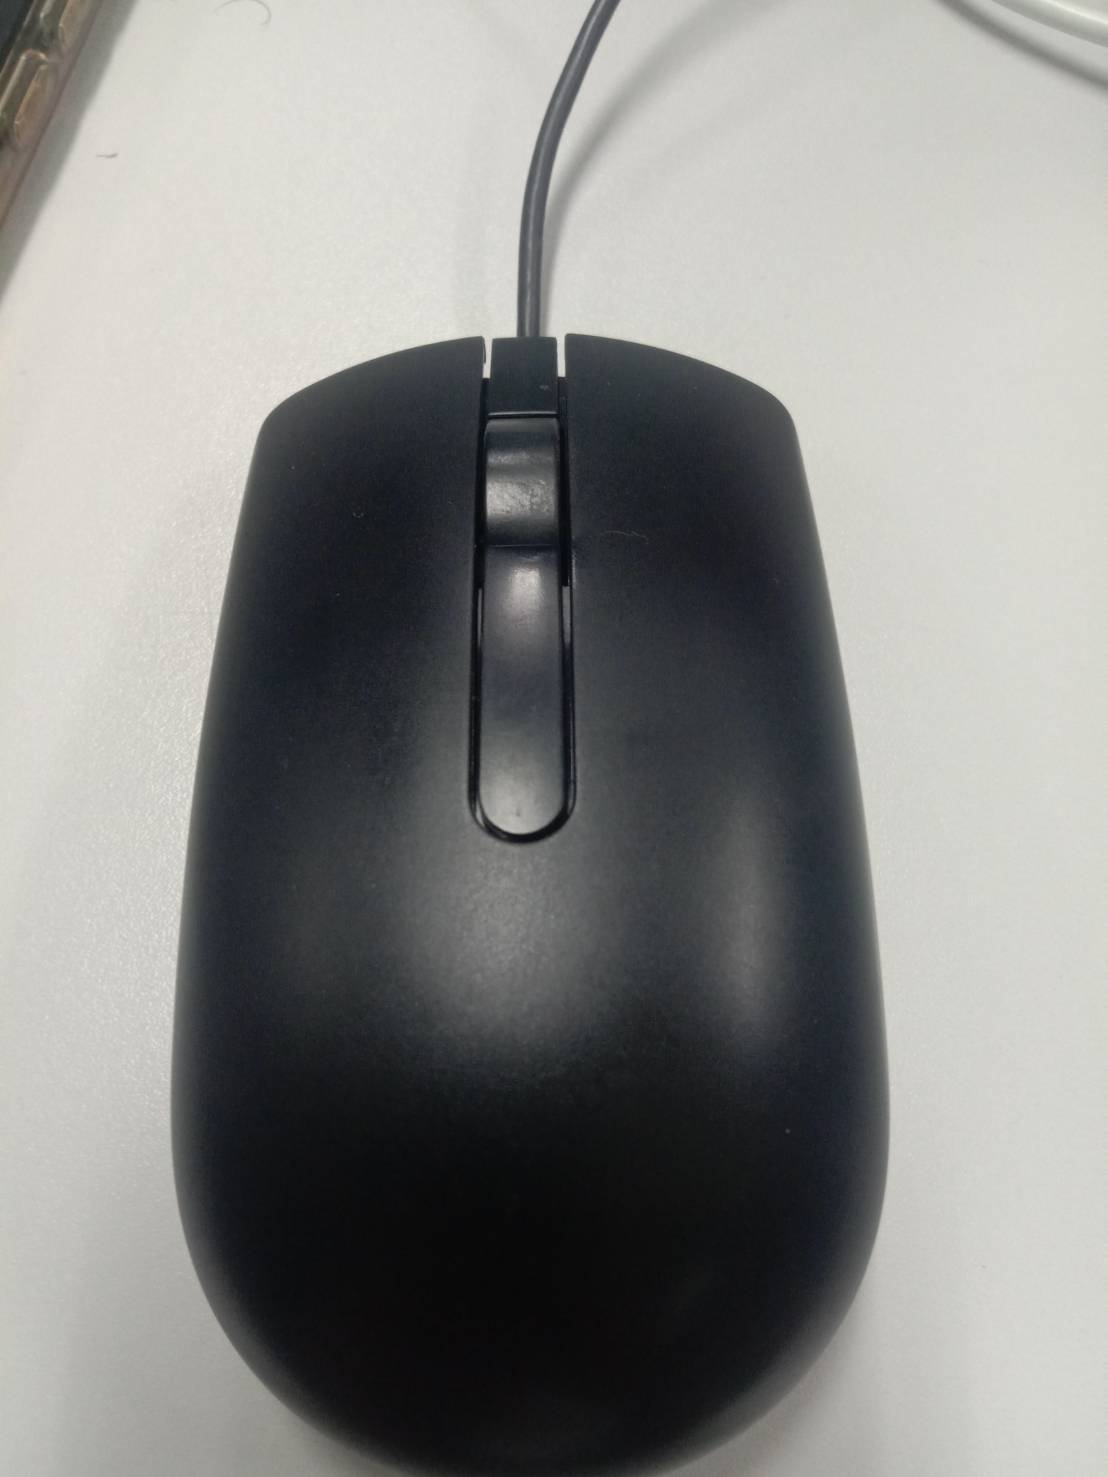mouse: (145, 301, 931, 1477)
